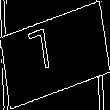L_S: (42, 27, 68, 83)
